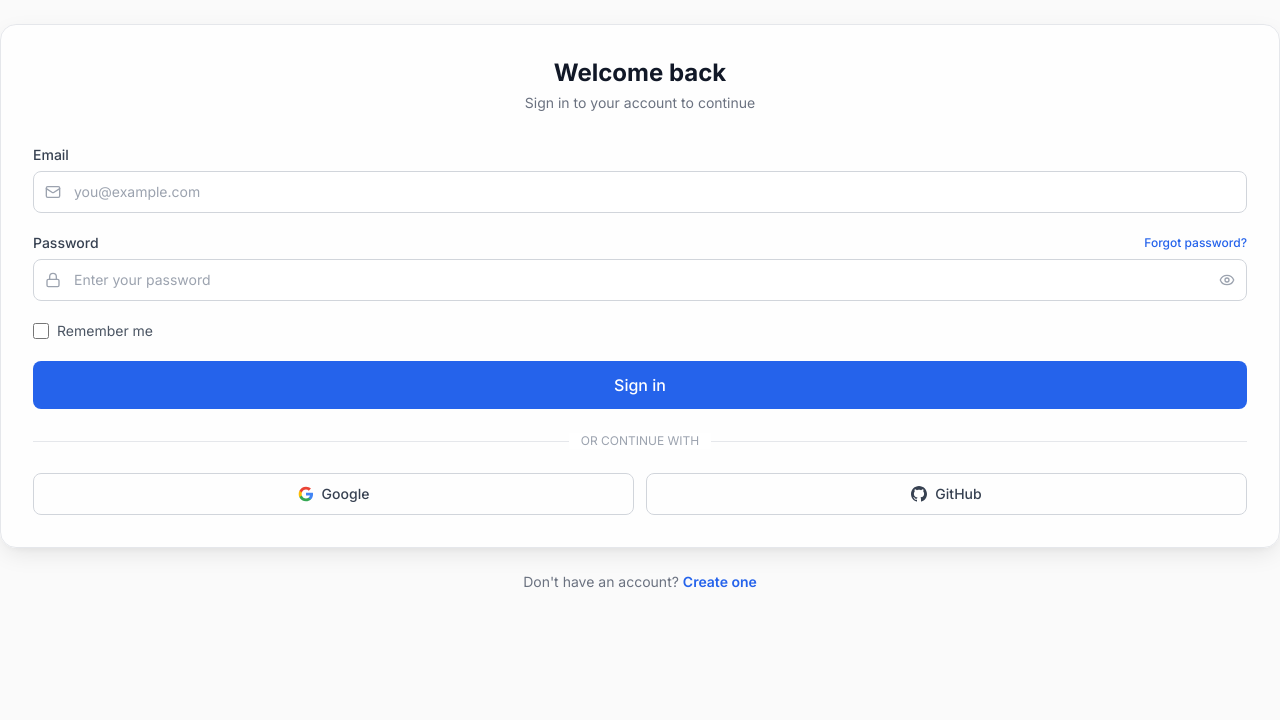
LoginPage › shows inline email validation error on blur
Type "invalid" into the field with placeholder "you@example.com" at [640, 192], box [33,171,1247,213]
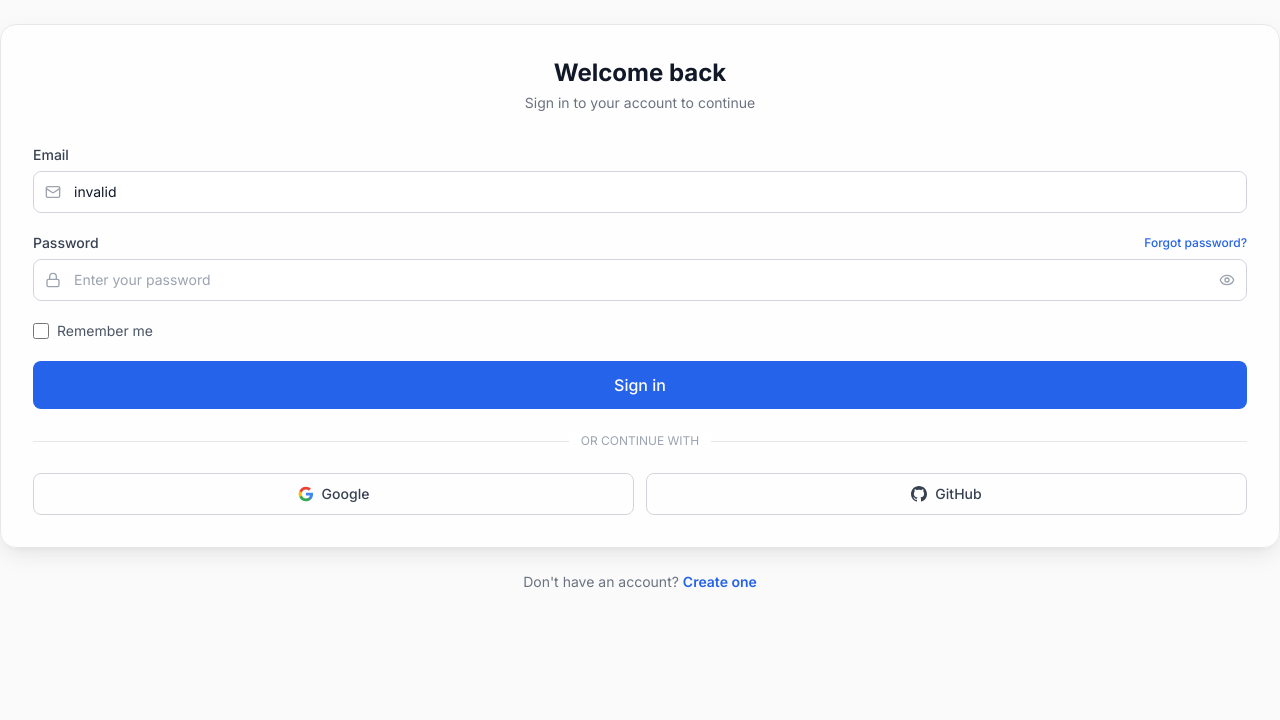
Leave the field with placeholder "you@example.com", box [33,171,1247,213]
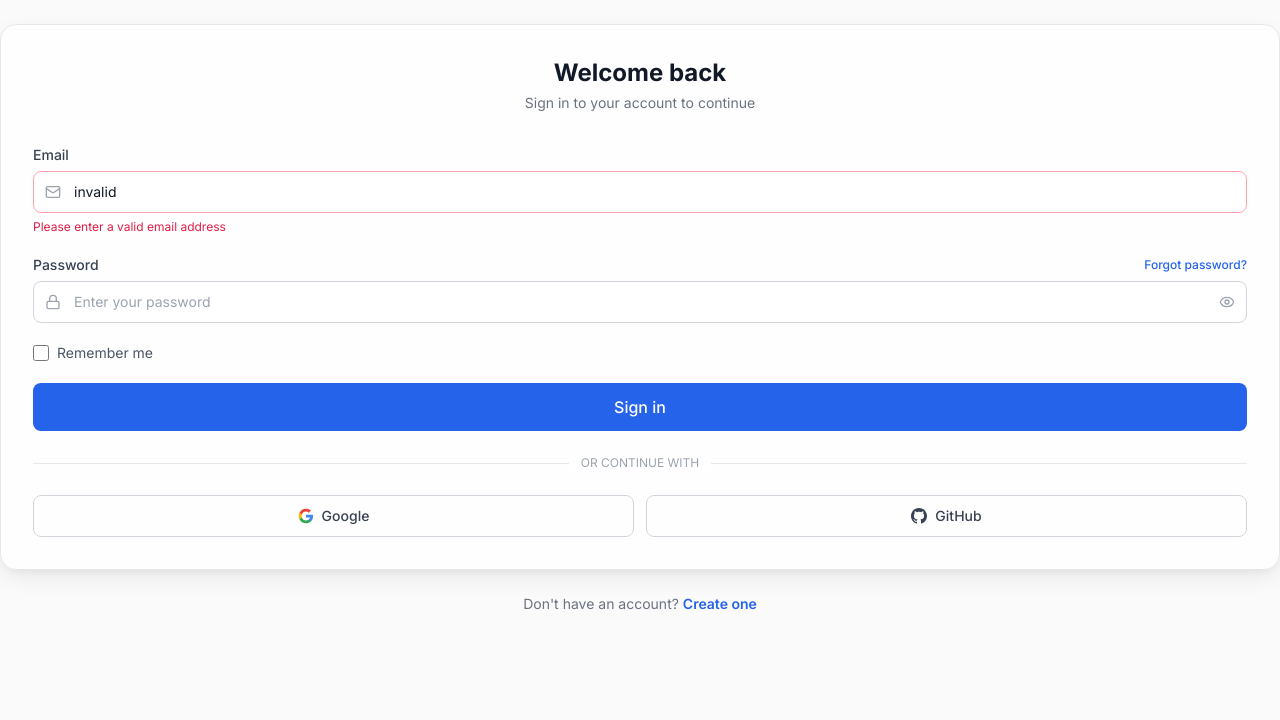
Expected: the text "Please enter a valid email address" is shown, [33,219,226,234]
